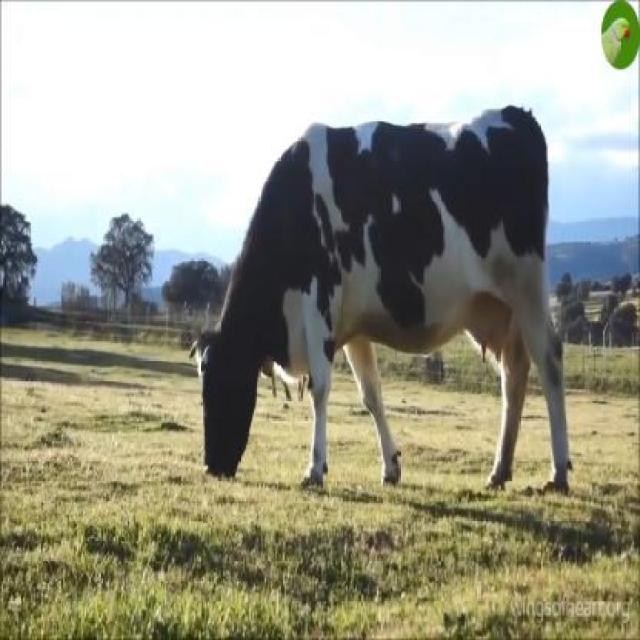Cow: (192, 107, 572, 496)
